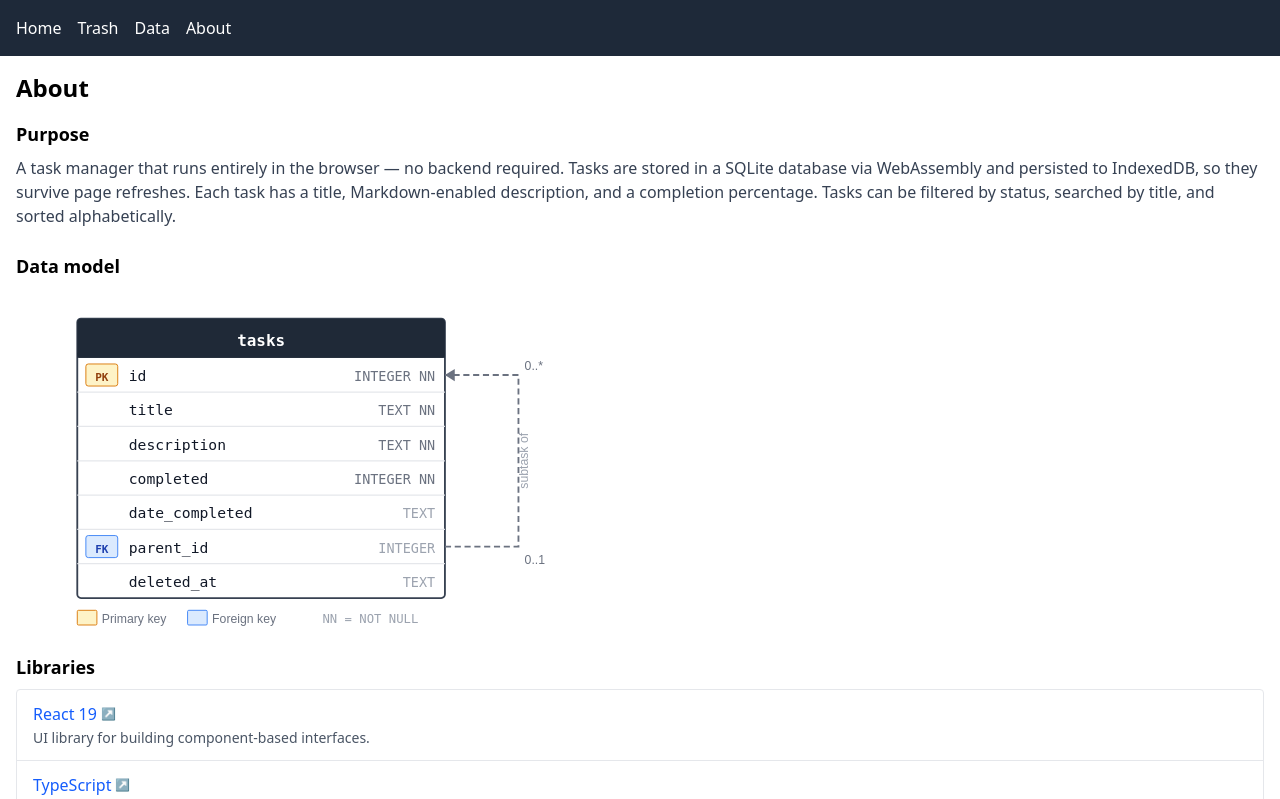
Scenario: renders the Data page when the Data link is clicked
Click the link "Data".
click(152, 28)  # box [134, 17, 170, 39]
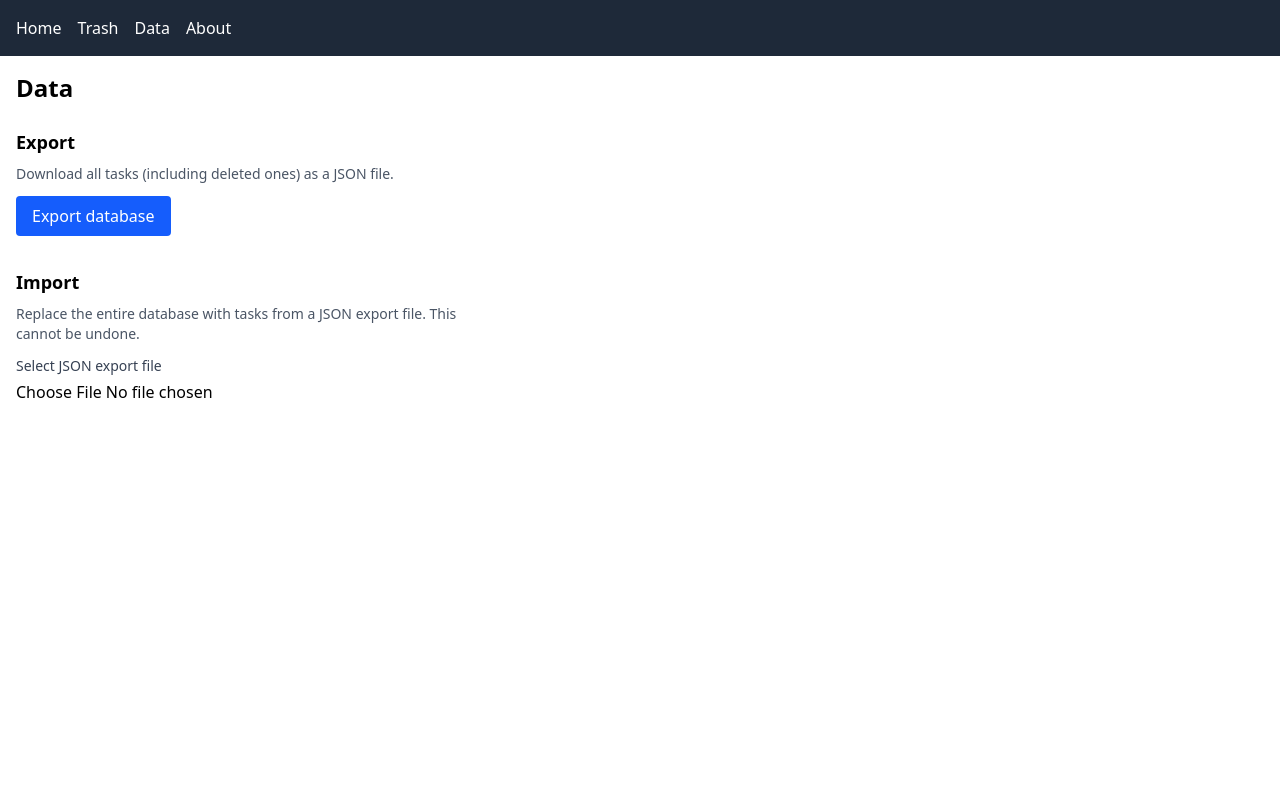
Check: the heading "Data" is shown, box [16, 71, 73, 104]
Check: the heading "Export" is shown, box [16, 130, 75, 154]
Check: the heading "Import" is shown, box [16, 270, 79, 294]
